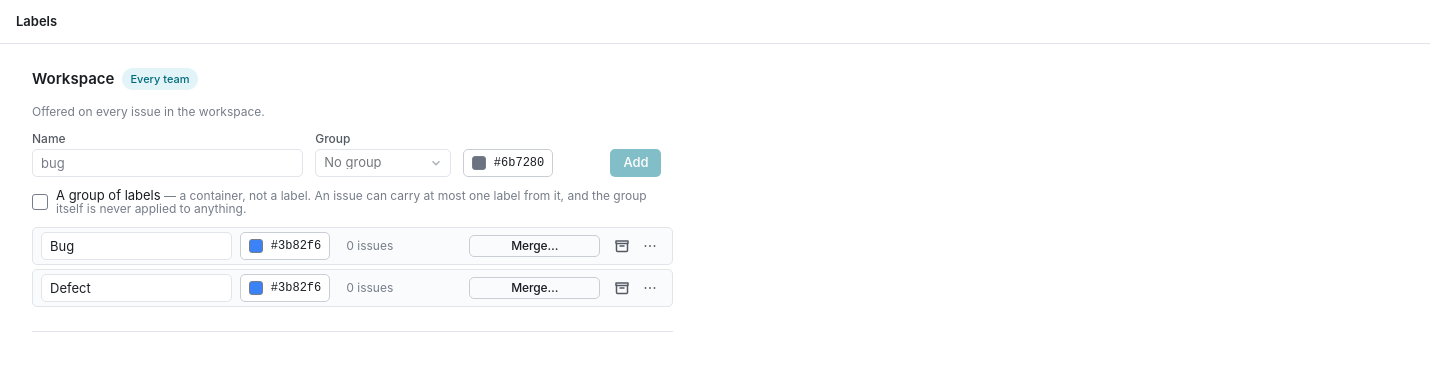
Test: the label row menu › offers the ⋯ button exactly what the right-click offers
The width and height of the screenshot is (1440, 391).
Right-click the button named "Options for Bug" at (650, 246), box top-left (636, 232), bottom-right (664, 260)
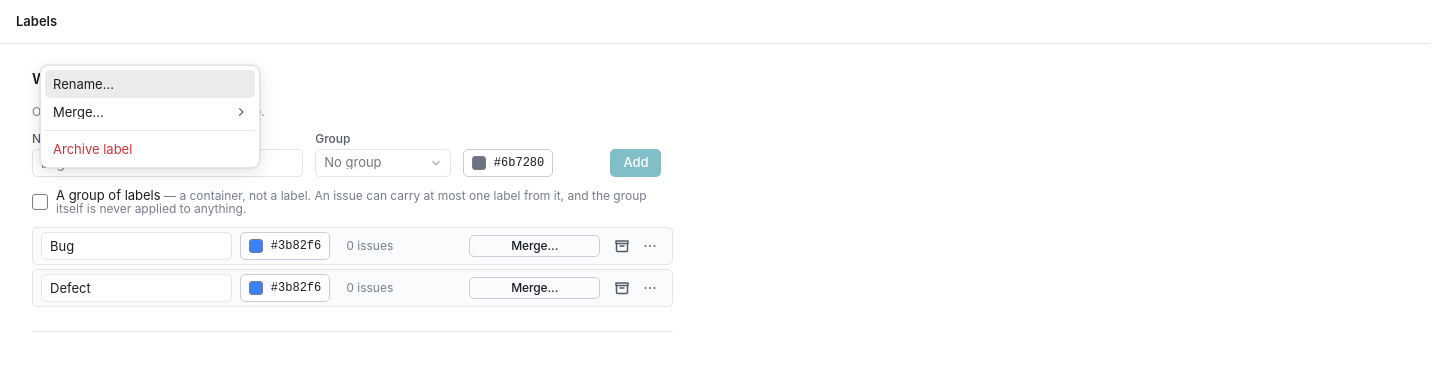
Now the menu is shown, box top-left (45, 70), bottom-right (255, 163)
Press Escape
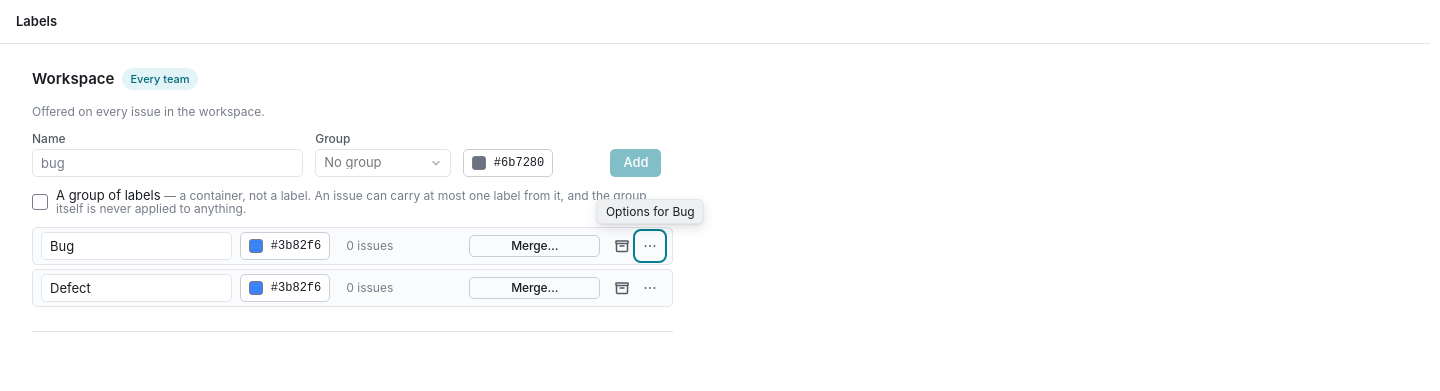
Now the menu is gone
Click the button named "Options for Bug" at (650, 246), box top-left (636, 232), bottom-right (664, 260)
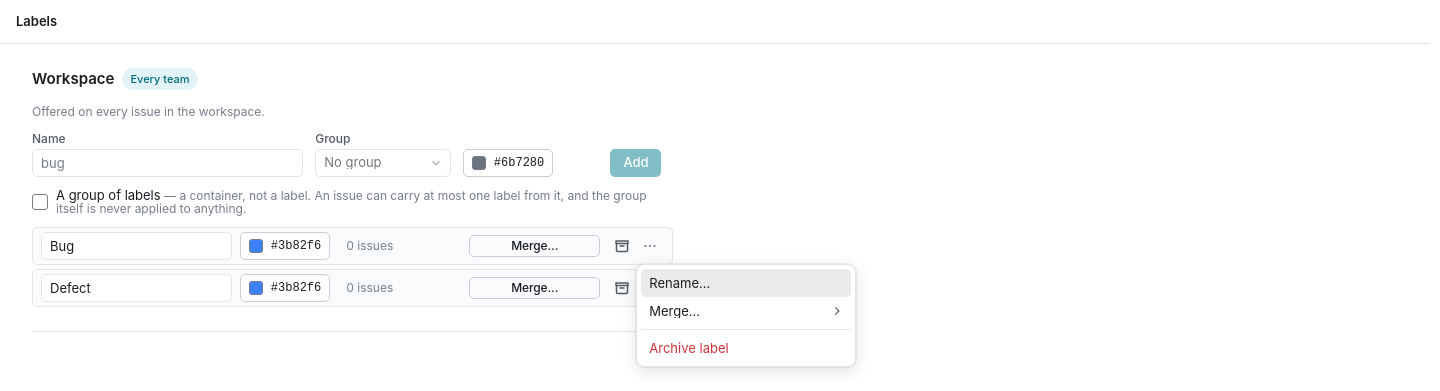
Now the menu is shown, box top-left (641, 269), bottom-right (851, 362)
